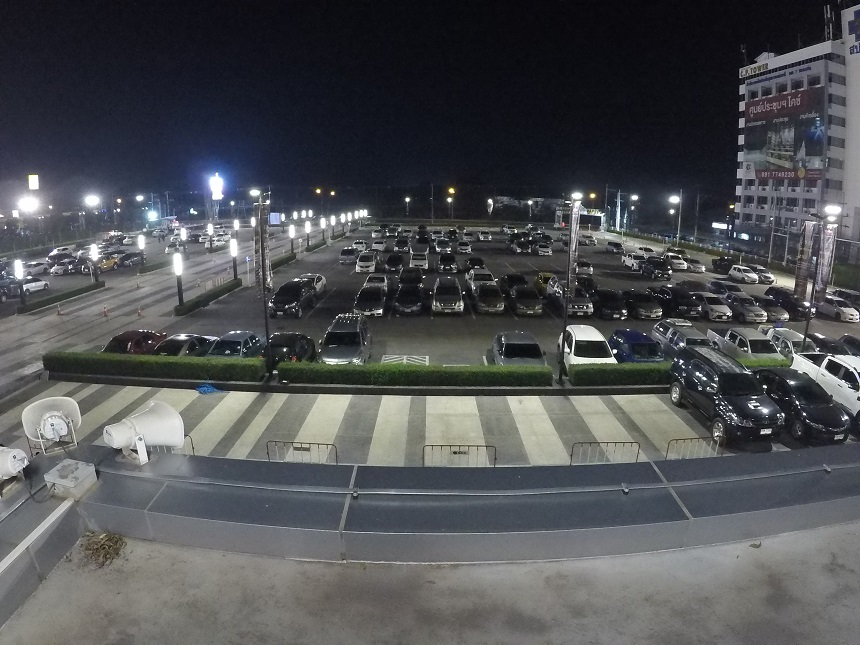busy: (716, 394, 781, 433), (792, 400, 847, 439), (808, 363, 860, 395), (484, 335, 543, 362), (320, 325, 365, 358), (563, 332, 611, 356), (815, 334, 860, 356), (273, 287, 306, 315), (110, 326, 149, 349), (665, 293, 702, 317), (267, 333, 306, 355), (719, 333, 764, 352), (432, 291, 466, 316), (511, 292, 544, 317), (621, 338, 661, 358), (219, 329, 256, 349), (165, 333, 200, 353), (391, 293, 424, 314), (563, 295, 594, 314), (476, 295, 505, 315), (359, 294, 385, 316), (668, 329, 703, 345), (780, 335, 810, 351), (602, 302, 628, 319), (638, 303, 661, 320), (742, 305, 768, 320), (769, 306, 791, 322), (711, 306, 733, 320), (832, 311, 859, 322), (839, 288, 860, 302), (800, 305, 816, 318)
